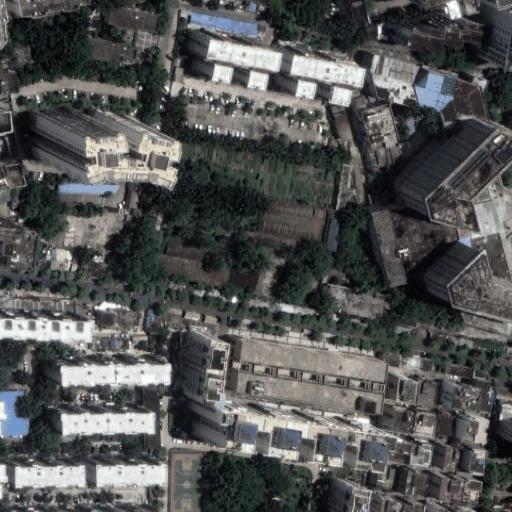building: (179, 404, 359, 484), (234, 340, 401, 416), (393, 108, 506, 219), (357, 50, 477, 137), (50, 382, 151, 446), (67, 100, 166, 159), (155, 254, 260, 294), (268, 49, 344, 99), (184, 33, 260, 82), (45, 354, 156, 380), (371, 210, 406, 288), (352, 105, 392, 173), (320, 282, 388, 322), (389, 16, 468, 46), (96, 462, 167, 488), (0, 499, 135, 512), (16, 465, 86, 490), (178, 329, 203, 398), (105, 6, 163, 33), (188, 12, 256, 35), (451, 378, 494, 413), (85, 39, 138, 65), (392, 408, 436, 439), (0, 391, 29, 437), (395, 378, 439, 406), (392, 442, 434, 470), (60, 185, 116, 204), (0, 298, 75, 311), (166, 242, 206, 263), (334, 112, 354, 151), (319, 481, 344, 512), (0, 215, 20, 252), (337, 163, 352, 211), (462, 418, 489, 444), (493, 405, 512, 441), (100, 311, 134, 330), (347, 0, 369, 29), (324, 219, 343, 251), (404, 472, 428, 497), (439, 478, 463, 503), (146, 309, 161, 347), (461, 480, 483, 505), (468, 448, 489, 474), (48, 249, 69, 270), (127, 184, 143, 211), (440, 413, 458, 436), (379, 498, 403, 512), (101, 338, 129, 350), (445, 445, 458, 470), (446, 366, 473, 377), (132, 336, 150, 344), (421, 359, 432, 370), (474, 370, 488, 378)
